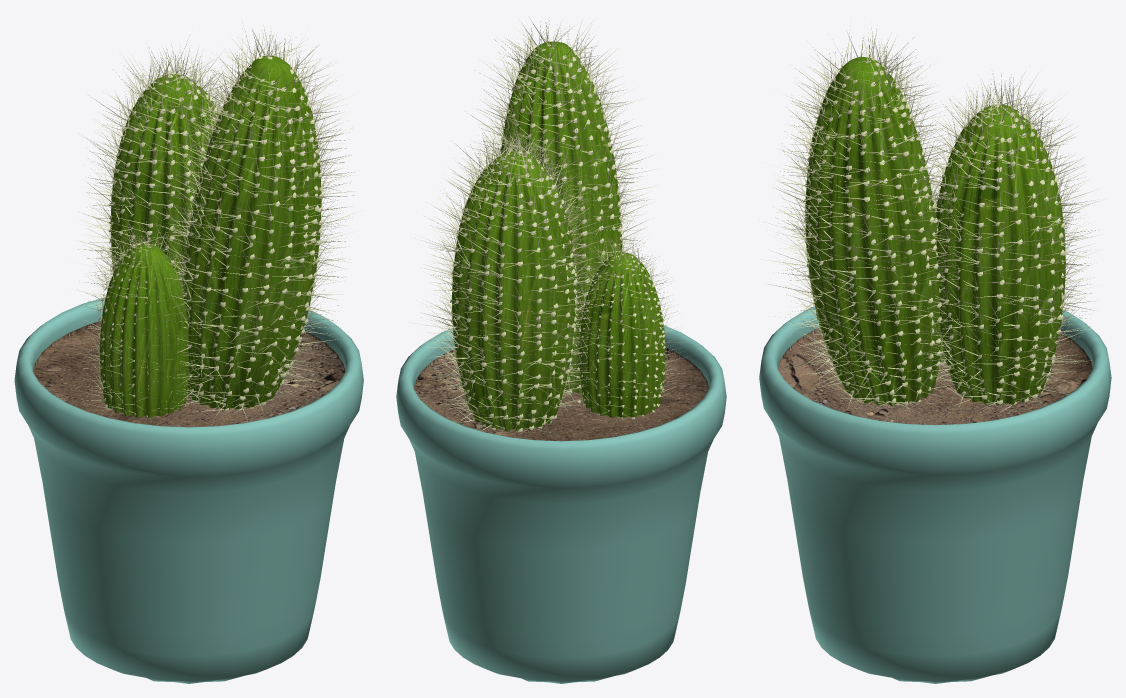
File: Cactus.FBX
3 renders of one model, left to right at view 1: azimuth 30°, elevation 25°; view 2: azimuth 150°, elevation 25°; view 3: azimuth 270°, elevation 25°, orthographic. The views are drawn at different scales.
Parts seen in each view (by area): view 1: cactus; view 2: cactus; view 3: cactus.
Boxes of the visible parts, x1=… form: cactus: x1=14, y1=27, x2=363, y2=683; cactus: x1=396, y1=17, x2=726, y2=683; cactus: x1=759, y1=22, x2=1111, y2=683.
Bounding box in the file's own units: 5.67 × 5.73 × 11.37.
